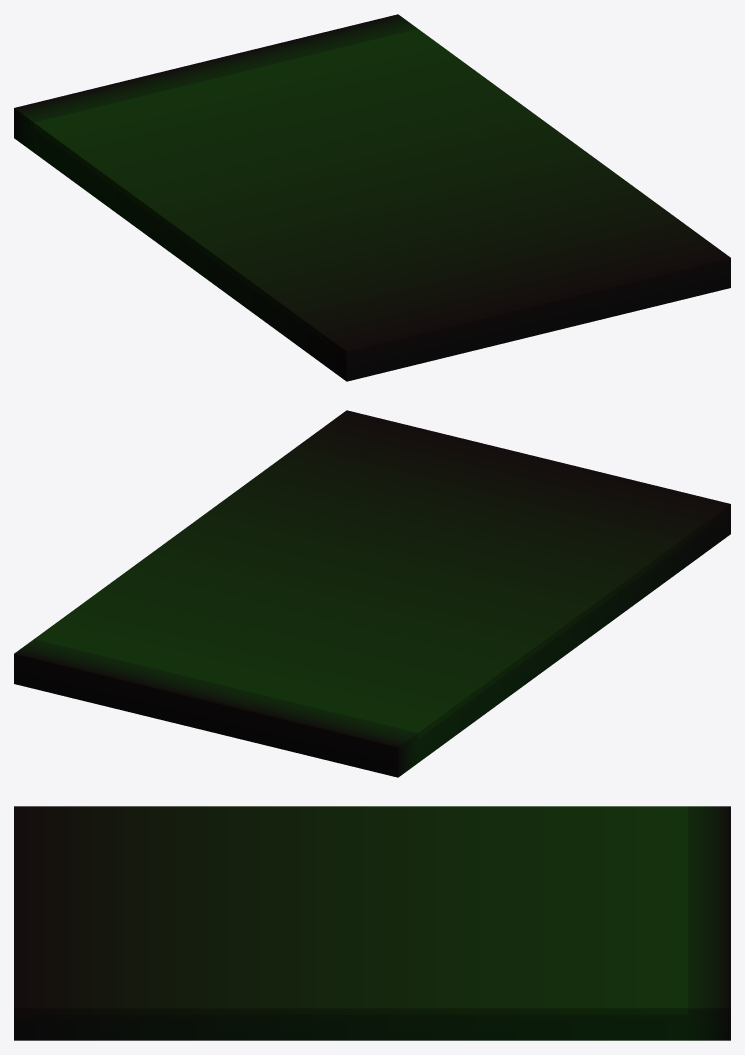
The model's file is via_he_straight.far.glb.
The picture shows the model from 3 angles, top to bottom: view 1: azimuth 30°, elevation 25°; view 2: azimuth 150°, elevation 25°; view 3: azimuth 270°, elevation 25°; orthographic projection. The views are drawn at different scales.
Visible parts, largest first — view 1: via_he_straight; view 2: via_he_straight; view 3: via_he_straight.
Part boxes in pixels (bbox=[...]): via_he_straight: bbox=[14, 14, 730, 381]; via_he_straight: bbox=[14, 410, 730, 777]; via_he_straight: bbox=[14, 806, 730, 1040].
Size of the model in its own units: 2 by 0.15 by 3.
